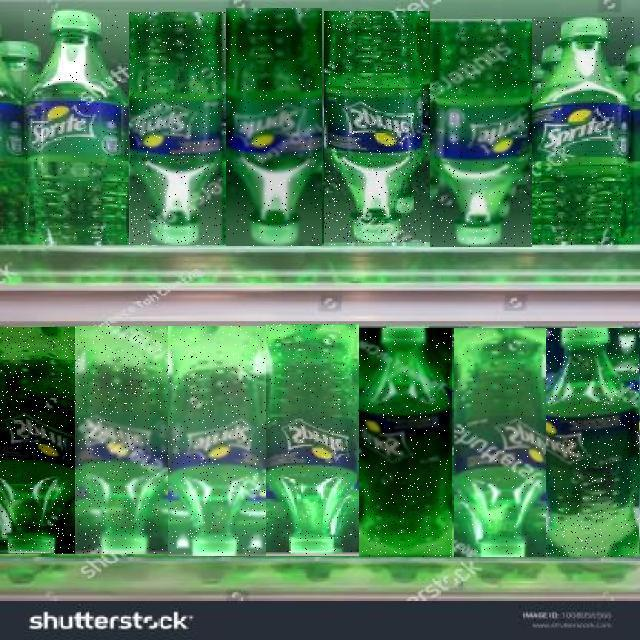Drinks: (24, 10, 130, 244), (324, 12, 430, 246), (532, 17, 634, 245), (430, 19, 532, 247), (226, 8, 322, 246), (168, 326, 266, 556), (130, 12, 226, 245), (266, 324, 359, 556), (359, 328, 452, 557), (546, 328, 639, 557), (75, 326, 168, 554), (454, 328, 546, 557), (0, 327, 75, 554)
